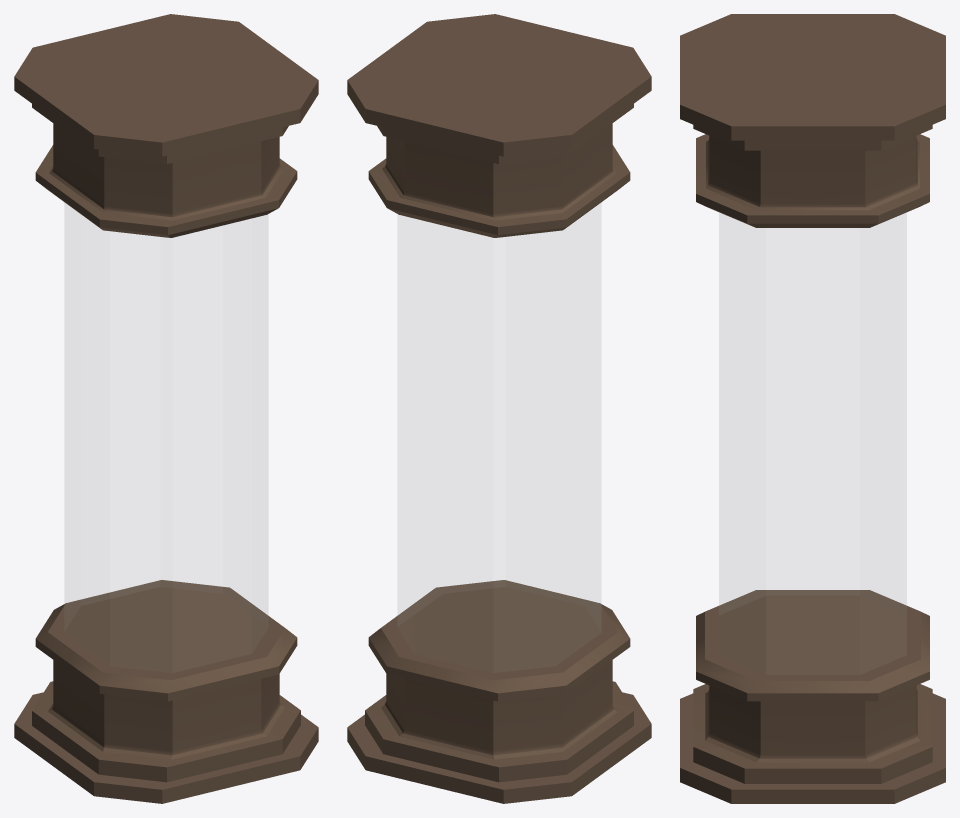
Rendered from PilarEspejo.fbx.
3 views of the same model, side by side, from view 1: azimuth 30°, elevation 25°; view 2: azimuth 150°, elevation 25°; view 3: azimuth 270°, elevation 25° (orthographic). The views are drawn at different scales.
Visible parts, largest first — view 1: PilarEspejo; view 2: PilarEspejo; view 3: PilarEspejo.
Boxes of the visible parts, box(x1,y1,x2,y2) form: PilarEspejo: box(14, 14, 318, 803); PilarEspejo: box(347, 14, 651, 803); PilarEspejo: box(680, 14, 945, 803).
Size of the model in its own units: 500 by 1406 by 500.
